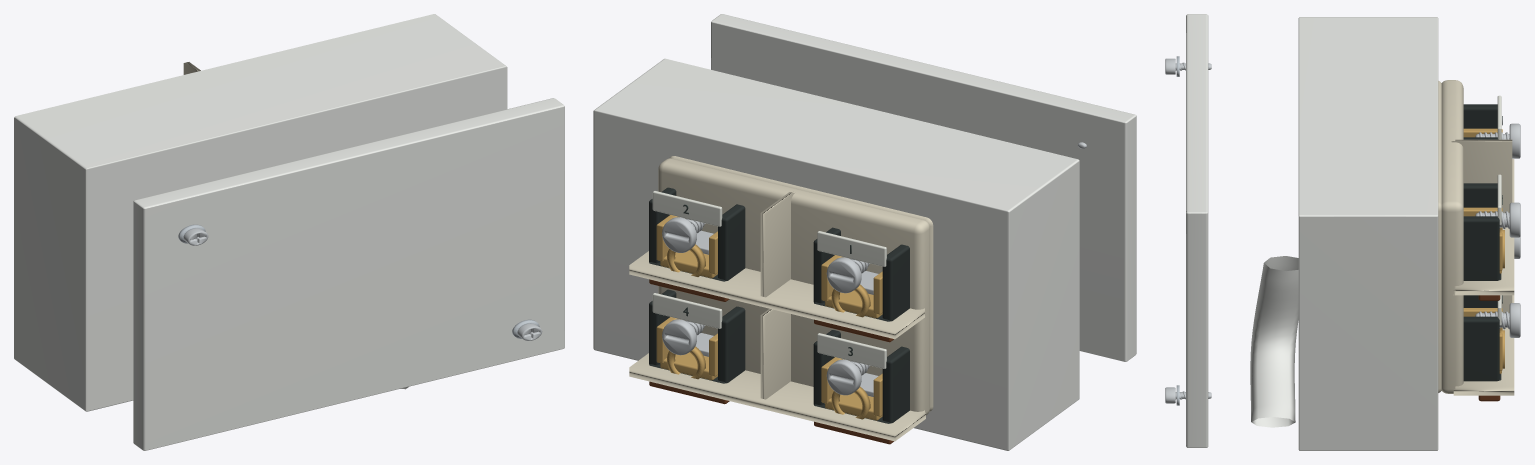
The model's file is junction_default.glb.
The picture shows the model from 3 angles, left to right: view 1: azimuth 30°, elevation 25°; view 2: azimuth 150°, elevation 25°; view 3: azimuth 270°, elevation 25°; orthographic projection. The views are drawn at different scales.
Visible parts, largest first — view 1: part:cover, part:body, detail:cover-fixing · Detail zinc plated fixing; view 2: part:body, part:terminals · Original 5a609f27, part:cover, detail:terminal-clamp:1 · Detail moulded engineering polymer, detail:terminal-clamp:3 · Detail moulded engineering polymer, detail:terminal-clamp:2 · Detail moulded engineering polymer, detail:terminal-clamp:4 · Detail moulded engineering polymer, detail:terminal-clamp:1 · Detail machined brass, detail:terminal-clamp:3 · Detail machined brass, detail:terminal-clamp:2 · Detail machined brass, detail:terminal-clamp:4 · Detail machined brass, Moulded terminal legend pad.001 (+7 smaller); view 3: part:body, part:terminals · Original 5a609f27, part:cover, part:body.001, detail:terminal-clamp:2 · Detail moulded engineering polymer, detail:terminal-clamp:4 · Detail moulded engineering polymer, detail:terminal-clamp:1 · Detail moulded engineering polymer, detail:terminal-clamp:2 · Detail zinc plated fixing, detail:terminal-clamp:4 · Detail zinc plated fixing, detail:cover-fixing · Detail zinc plated fixing, detail:terminal-clamp:1 · Detail zinc plated fixing, detail:terminal-clamp:2 · Detail machined brass (+1 smaller).
Part boxes in pixels (x1=…): part:cover: x1=133, y1=98, x2=564, y2=450; part:body: x1=14, y1=14, x2=507, y2=411; detail:cover-fixing · Detail zinc plated fixing: x1=183, y1=228, x2=542, y2=340; part:body: x1=593, y1=58, x2=1079, y2=450; part:terminals · Original 5a609f27: x1=629, y1=156, x2=933, y2=441; part:cover: x1=711, y1=14, x2=1136, y2=361; detail:terminal-clamp:1 · Detail moulded engineering polymer: x1=813, y1=227, x2=909, y2=321; detail:terminal-clamp:3 · Detail moulded engineering polymer: x1=813, y1=330, x2=909, y2=423; detail:terminal-clamp:2 · Detail moulded engineering polymer: x1=649, y1=187, x2=745, y2=281; detail:terminal-clamp:4 · Detail moulded engineering polymer: x1=649, y1=289, x2=745, y2=383; detail:terminal-clamp:1 · Detail machined brass: x1=821, y1=255, x2=882, y2=318; detail:terminal-clamp:3 · Detail machined brass: x1=821, y1=357, x2=882, y2=420; detail:terminal-clamp:2 · Detail machined brass: x1=656, y1=215, x2=717, y2=278; detail:terminal-clamp:4 · Detail machined brass: x1=656, y1=317, x2=717, y2=380; Moulded terminal legend pad.001: x1=652, y1=191, x2=722, y2=226; part:body: x1=1298, y1=17, x2=1438, y2=450; part:terminals · Original 5a609f27: x1=1438, y1=80, x2=1514, y2=395; part:cover: x1=1186, y1=14, x2=1208, y2=447; part:body.001: x1=1250, y1=256, x2=1298, y2=427; detail:terminal-clamp:2 · Detail moulded engineering polymer: x1=1463, y1=183, x2=1501, y2=280; detail:terminal-clamp:4 · Detail moulded engineering polymer: x1=1463, y1=295, x2=1501, y2=381; detail:terminal-clamp:1 · Detail moulded engineering polymer: x1=1463, y1=104, x2=1498, y2=139; detail:terminal-clamp:2 · Detail zinc plated fixing: x1=1475, y1=202, x2=1520, y2=237; detail:terminal-clamp:4 · Detail zinc plated fixing: x1=1475, y1=303, x2=1520, y2=337; detail:cover-fixing · Detail zinc plated fixing: x1=1165, y1=58, x2=1211, y2=403; detail:terminal-clamp:1 · Detail zinc plated fixing: x1=1475, y1=123, x2=1520, y2=158; detail:terminal-clamp:2 · Detail machined brass: x1=1463, y1=207, x2=1504, y2=273.
Bounding box in the file's own units: 0.7 × 0.4493 × 0.5267.
